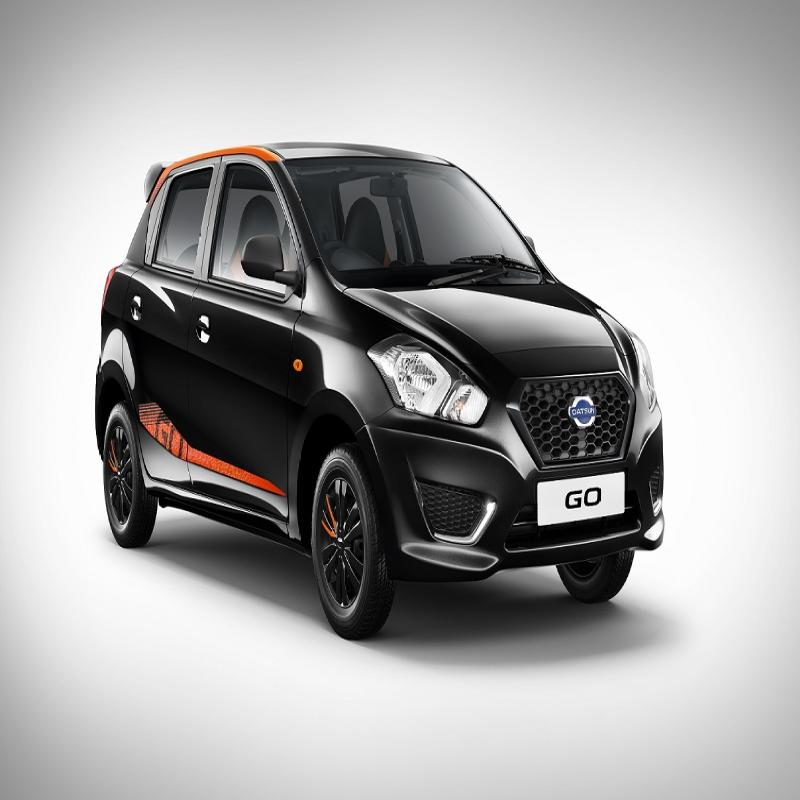car: (55, 104, 671, 654)
